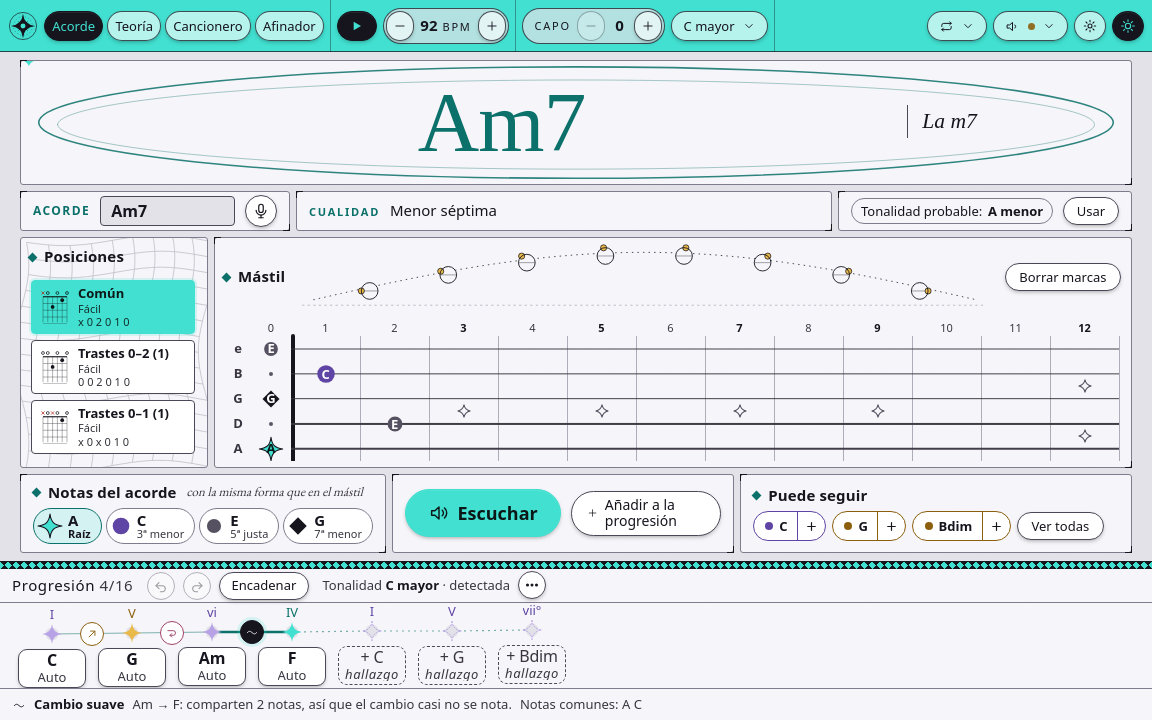
it: top bar › opens and closes popovers with click, Escape and outside click
The width and height of the screenshot is (1152, 720).
Click the button named "Reproducción": (957, 26) [927, 11, 987, 41]
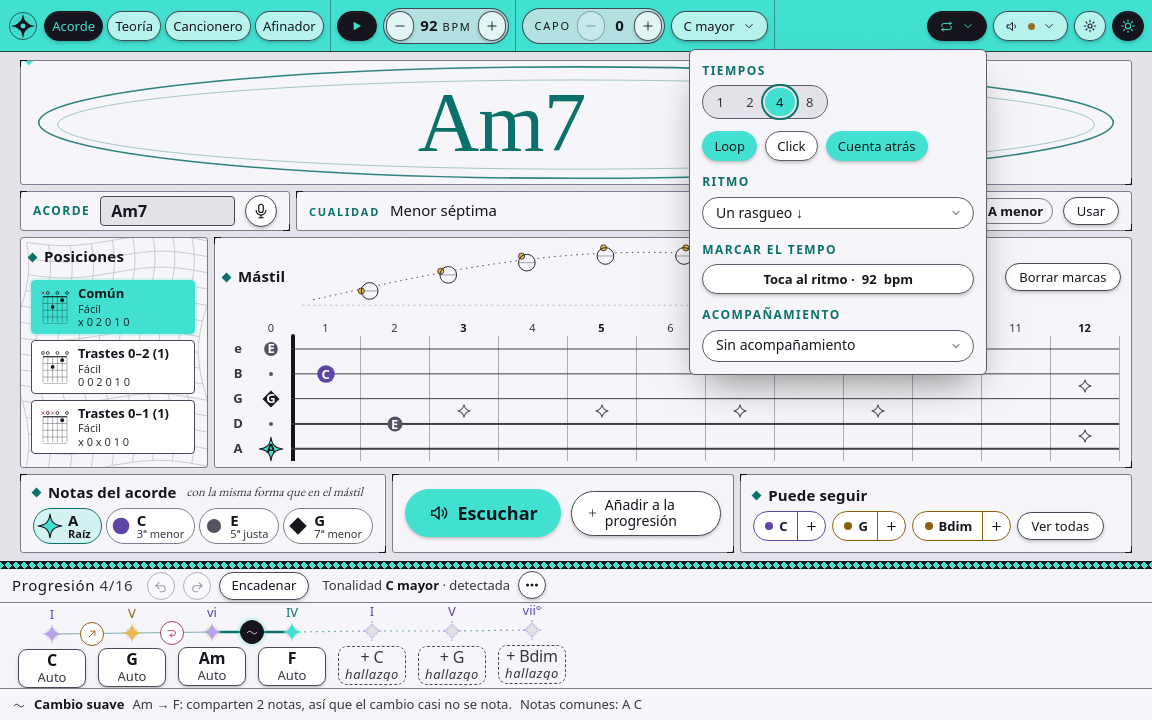
Result: the button named "Reproducción" is expanded at [927, 11, 987, 41]
Click the button "8": (810, 102) [795, 88, 824, 116]
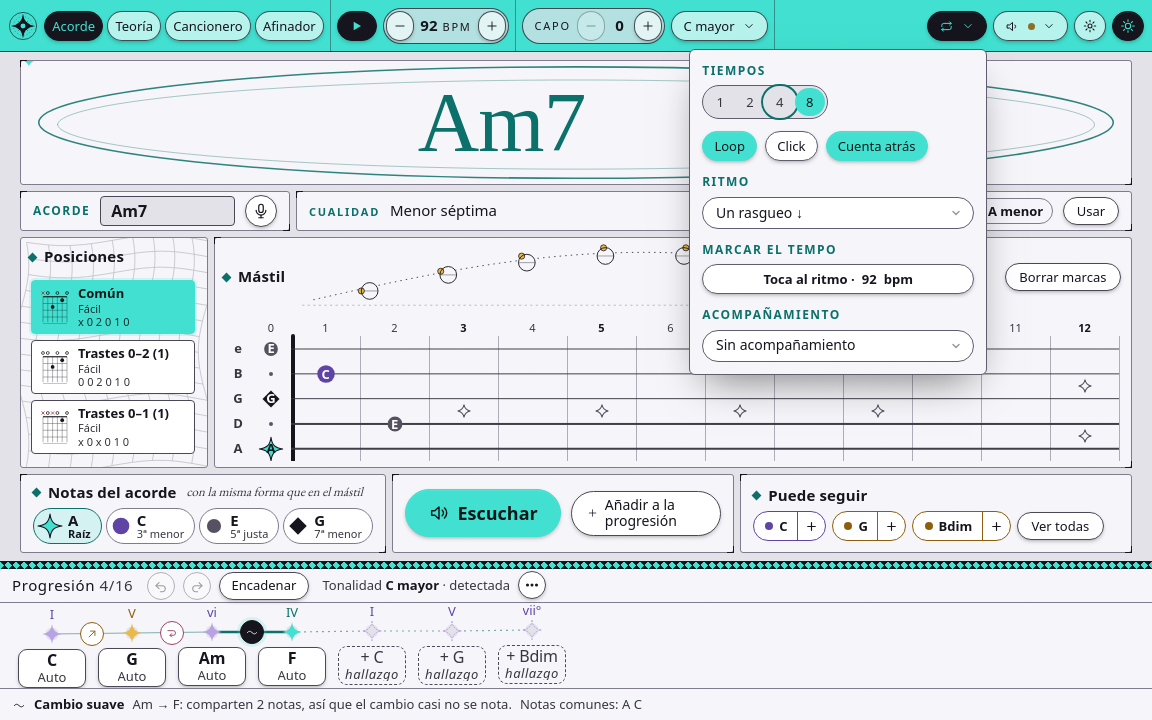
Result: the button "8" is pressed at [795, 88, 824, 116]
Press Escape
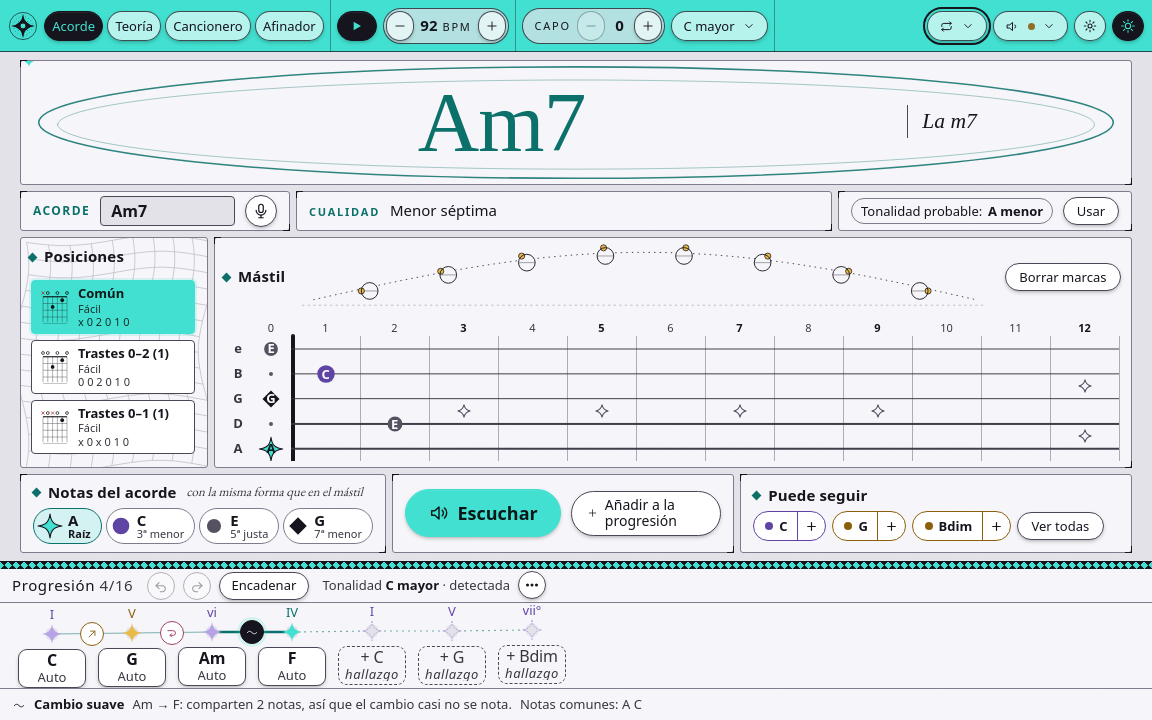
Result: the dialog is gone
Result: the button named "Reproducción" is collapsed
Click the button named "Reproducción": (957, 26) [927, 11, 987, 41]
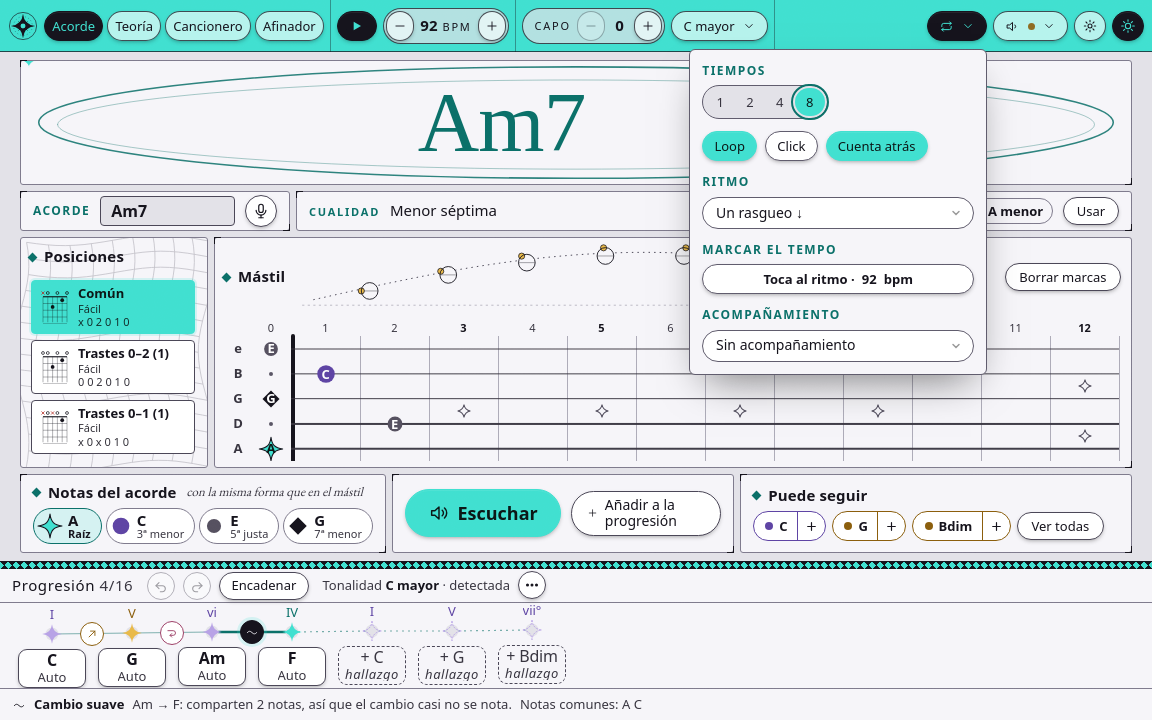
Result: the dialog is shown at [689, 49, 987, 375]
Press the mouse on the element named "Tónica": (576, 360) [0, 0, 1151, 719]
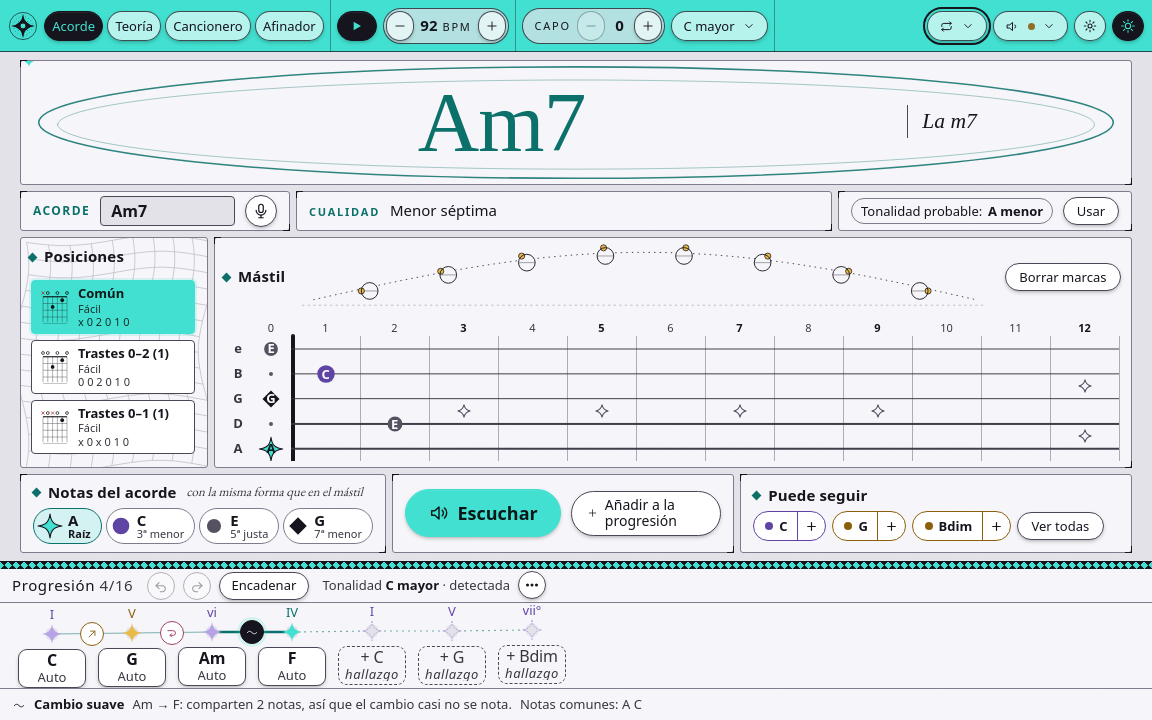
Result: the dialog is gone
